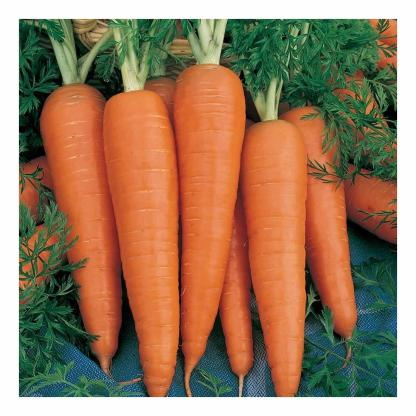--: (32, 38, 128, 378), (99, 24, 184, 393), (169, 16, 247, 386), (238, 81, 318, 383)
